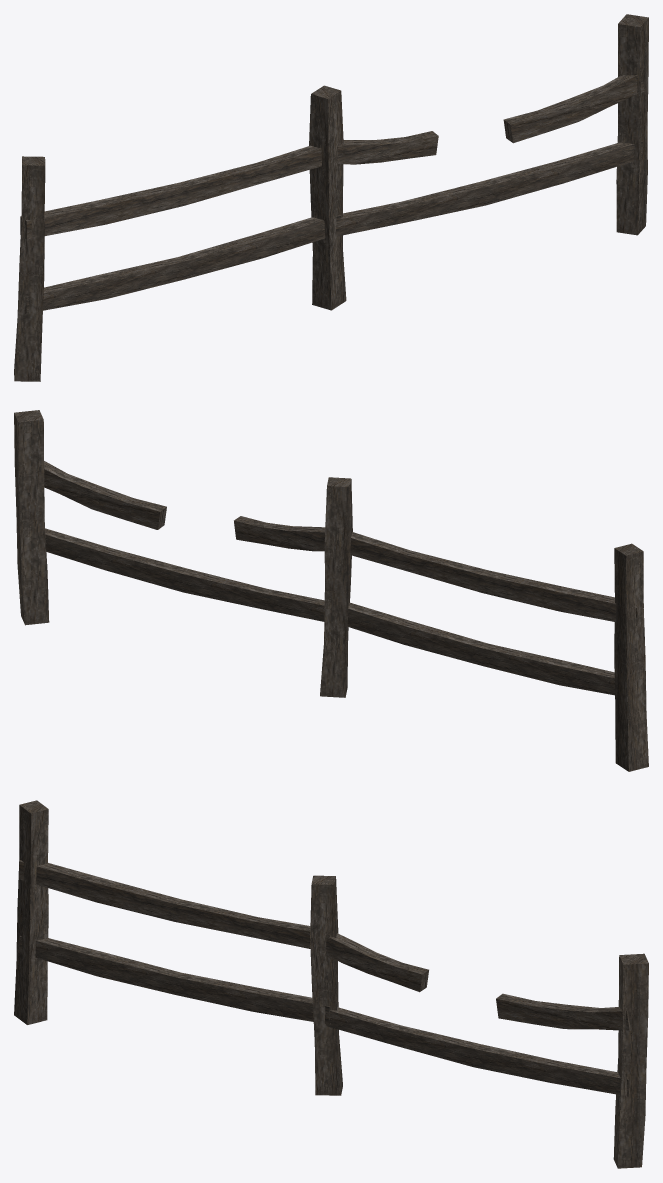
File: Fence_02.glb
3 views of the same model, one above another, from view 1: azimuth 30°, elevation 25°; view 2: azimuth 150°, elevation 25°; view 3: azimuth 330°, elevation 25° (orthographic).
Parts seen in each view (by area): view 1: Fence02_Rail0_0_Export, Fence02_Rail1_0_Export, Fence02_Rail0_1_Export, Fence02_Post2_Export, Fence02_Post3_Export, Fence02_Post1_Export, Fence02_BrokenRailB_Export, Fence02_BrokenRailA_Export; view 2: Fence02_Post1_Export, Fence02_Rail0_0_Export, Fence02_Rail1_0_Export, Fence02_Rail0_1_Export, Fence02_Post3_Export, Fence02_Post2_Export, Fence02_BrokenRailB_Export, Fence02_BrokenRailA_Export; view 3: Fence02_Rail0_0_Export, Fence02_Rail1_0_Export, Fence02_Rail0_1_Export, Fence02_Post1_Export, Fence02_Post3_Export, Fence02_Post2_Export, Fence02_BrokenRailB_Export, Fence02_BrokenRailA_Export.
Boxes of the visible parts, left/top/right/bottom form: Fence02_Rail0_0_Export: left=25, top=214, right=340, bottom=313; Fence02_Rail1_0_Export: left=336, top=141, right=642, bottom=236; Fence02_Rail0_1_Export: left=20, top=142, right=340, bottom=239; Fence02_Post2_Export: left=309, top=85, right=346, bottom=310; Fence02_Post3_Export: left=616, top=14, right=648, bottom=235; Fence02_Post1_Export: left=14, top=156, right=45, bottom=381; Fence02_BrokenRailB_Export: left=503, top=72, right=644, bottom=143; Fence02_BrokenRailA_Export: left=337, top=131, right=438, bottom=164; Fence02_Post1_Export: left=614, top=543, right=648, bottom=771; Fence02_Rail0_0_Export: left=347, top=602, right=614, bottom=695; Fence02_Rail1_0_Export: left=45, top=528, right=324, bottom=621; Fence02_Rail0_1_Export: left=350, top=532, right=643, bottom=625; Fence02_Post3_Export: left=14, top=410, right=49, bottom=625; Fence02_Post2_Export: left=320, top=477, right=352, bottom=697; Fence02_BrokenRailB_Export: left=44, top=461, right=166, bottom=529; Fence02_BrokenRailA_Export: left=234, top=516, right=325, bottom=551; Fence02_Rail0_0_Export: left=19, top=936, right=330, bottom=1024; Fence02_Rail1_0_Export: left=326, top=1007, right=629, bottom=1096; Fence02_Rail0_1_Export: left=19, top=860, right=330, bottom=948; Fence02_Post1_Export: left=14, top=800, right=48, bottom=1024; Fence02_Post3_Export: left=613, top=953, right=648, bottom=1168; Fence02_Post2_Export: left=310, top=875, right=342, bottom=1095; Fence02_BrokenRailB_Export: left=496, top=993, right=630, bottom=1030; Fence02_BrokenRailA_Export: left=326, top=933, right=428, bottom=992.
Bounding box in the file's own units: 12.68 × 4.1 × 0.6951.
1 material, 1 textured.
